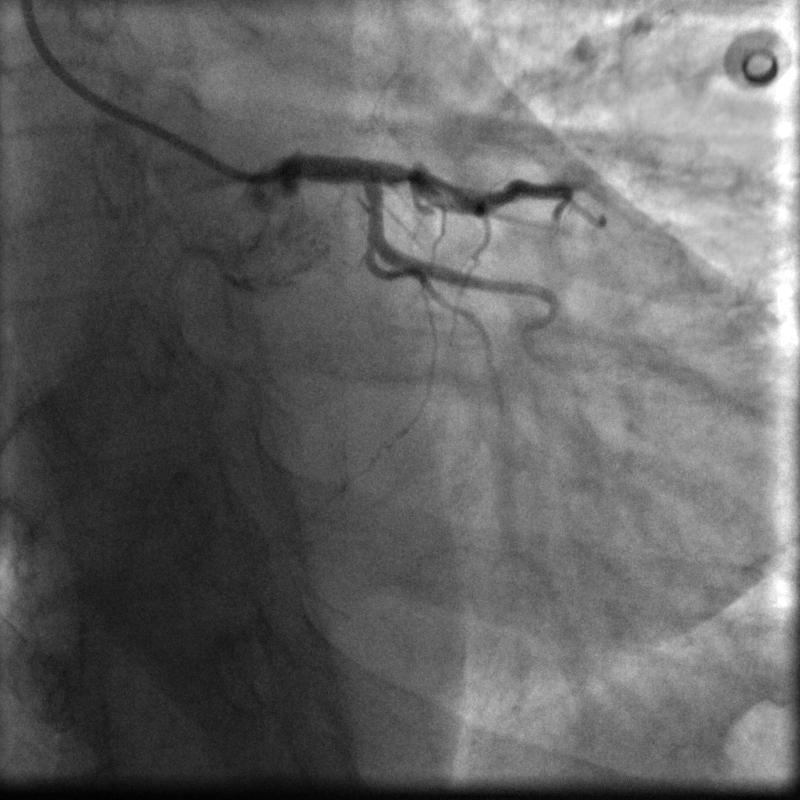Stenosis: (399, 159, 425, 187)
